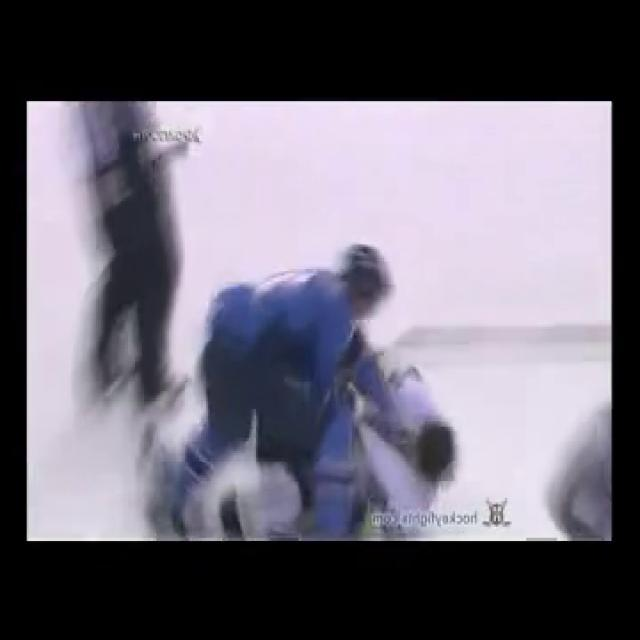non-violence: (56, 109, 195, 402)
violence: (146, 246, 454, 534)
